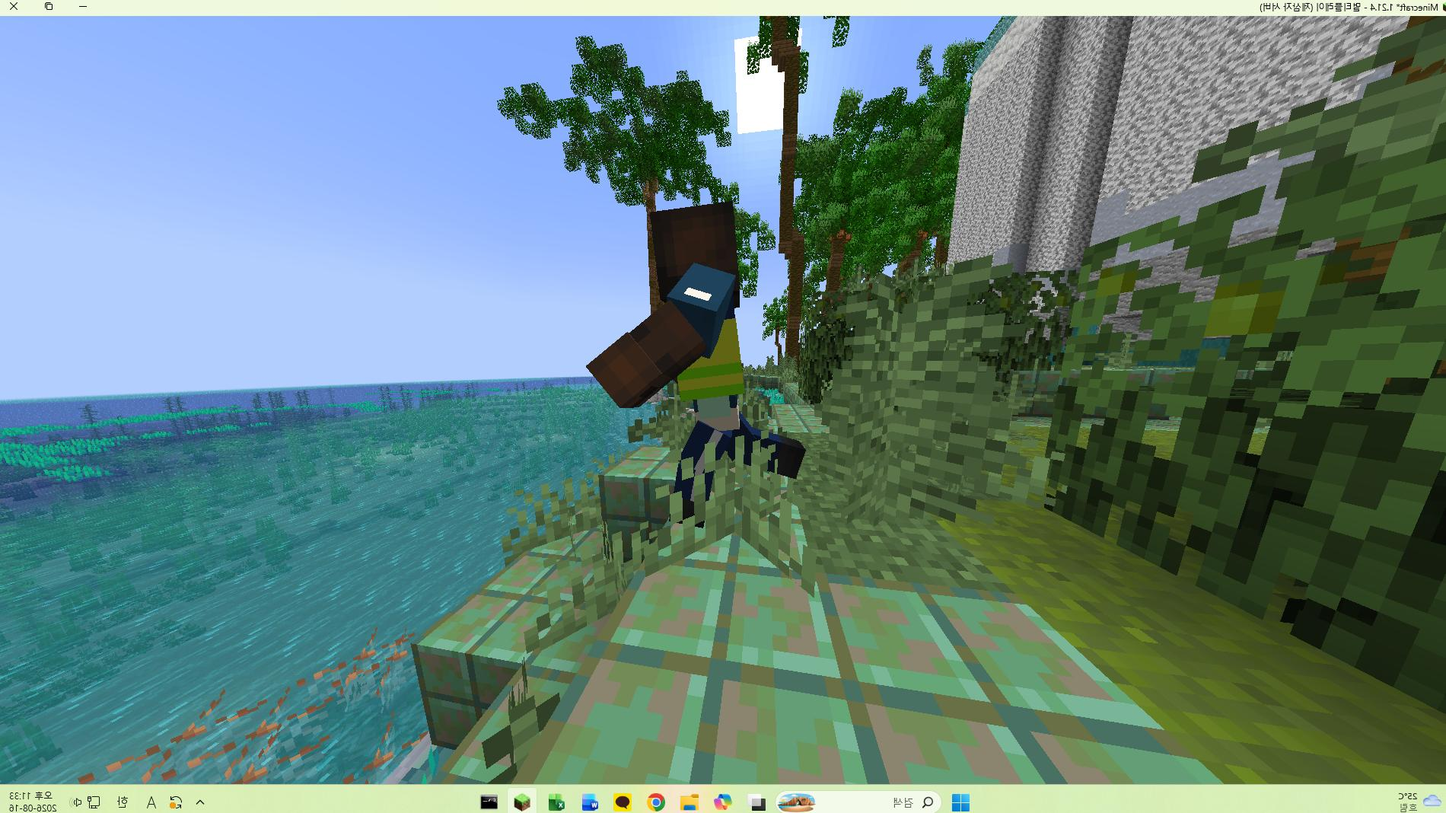Guardian: (588, 202, 804, 517)
